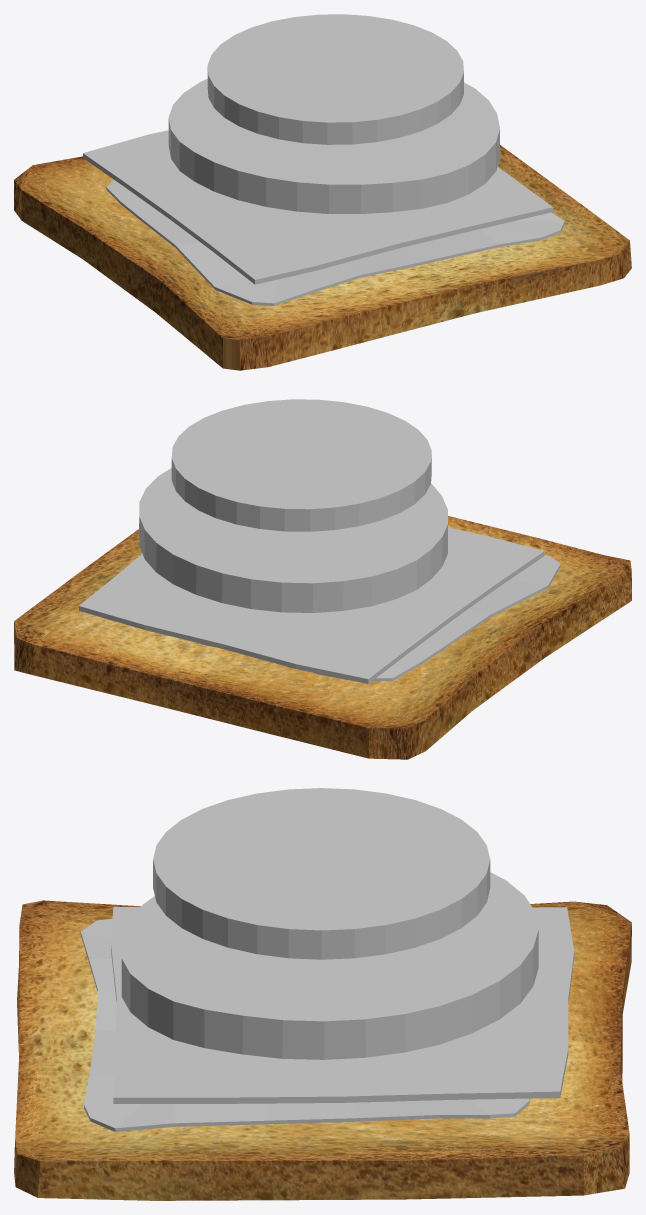
File: Бред_1636247041.fbx
The picture shows the model from 3 angles, top to bottom: view 1: azimuth 30°, elevation 25°; view 2: azimuth 150°, elevation 25°; view 3: azimuth 270°, elevation 25°; orthographic projection. The views are drawn at different scales.
Parts seen in each view (by area): view 1: Plane.010, Circle.013, Circle.012, Plane.012, Plane.011; view 2: Plane.010, Circle.013, Circle.012, Plane.012, Plane.011; view 3: Plane.010, Circle.013, Circle.012, Plane.012, Plane.011.
Boxes of the visible parts, x1=… form: Plane.010: x1=14, y1=145, x2=631, y2=370; Circle.013: x1=207, y1=14, x2=463, y2=144; Circle.012: x1=168, y1=79, x2=500, y2=213; Plane.012: x1=83, y1=130, x2=553, y2=284; Plane.011: x1=106, y1=180, x2=564, y2=305; Plane.010: x1=14, y1=516, x2=631, y2=759; Circle.013: x1=171, y1=399, x2=431, y2=531; Circle.012: x1=139, y1=468, x2=447, y2=612; Plane.012: x1=79, y1=527, x2=544, y2=683; Plane.011: x1=107, y1=555, x2=560, y2=681; Plane.010: x1=14, y1=900, x2=631, y2=1200; Circle.013: x1=153, y1=788, x2=490, y2=959; Circle.012: x1=121, y1=872, x2=538, y2=1059; Plane.012: x1=111, y1=906, x2=574, y2=1103; Plane.011: x1=80, y1=918, x2=529, y2=1131.
Bounding box in the file's own units: 201 × 81.41 × 201.
